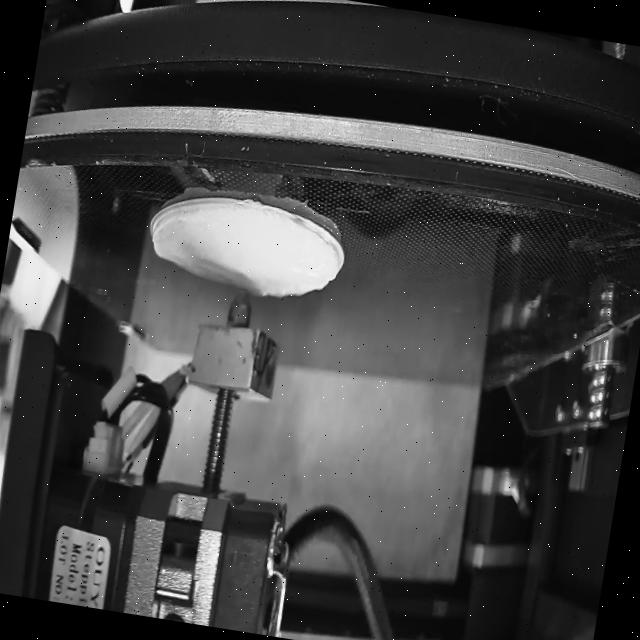over_extrusion: (252, 234, 342, 311), (146, 195, 192, 272)
